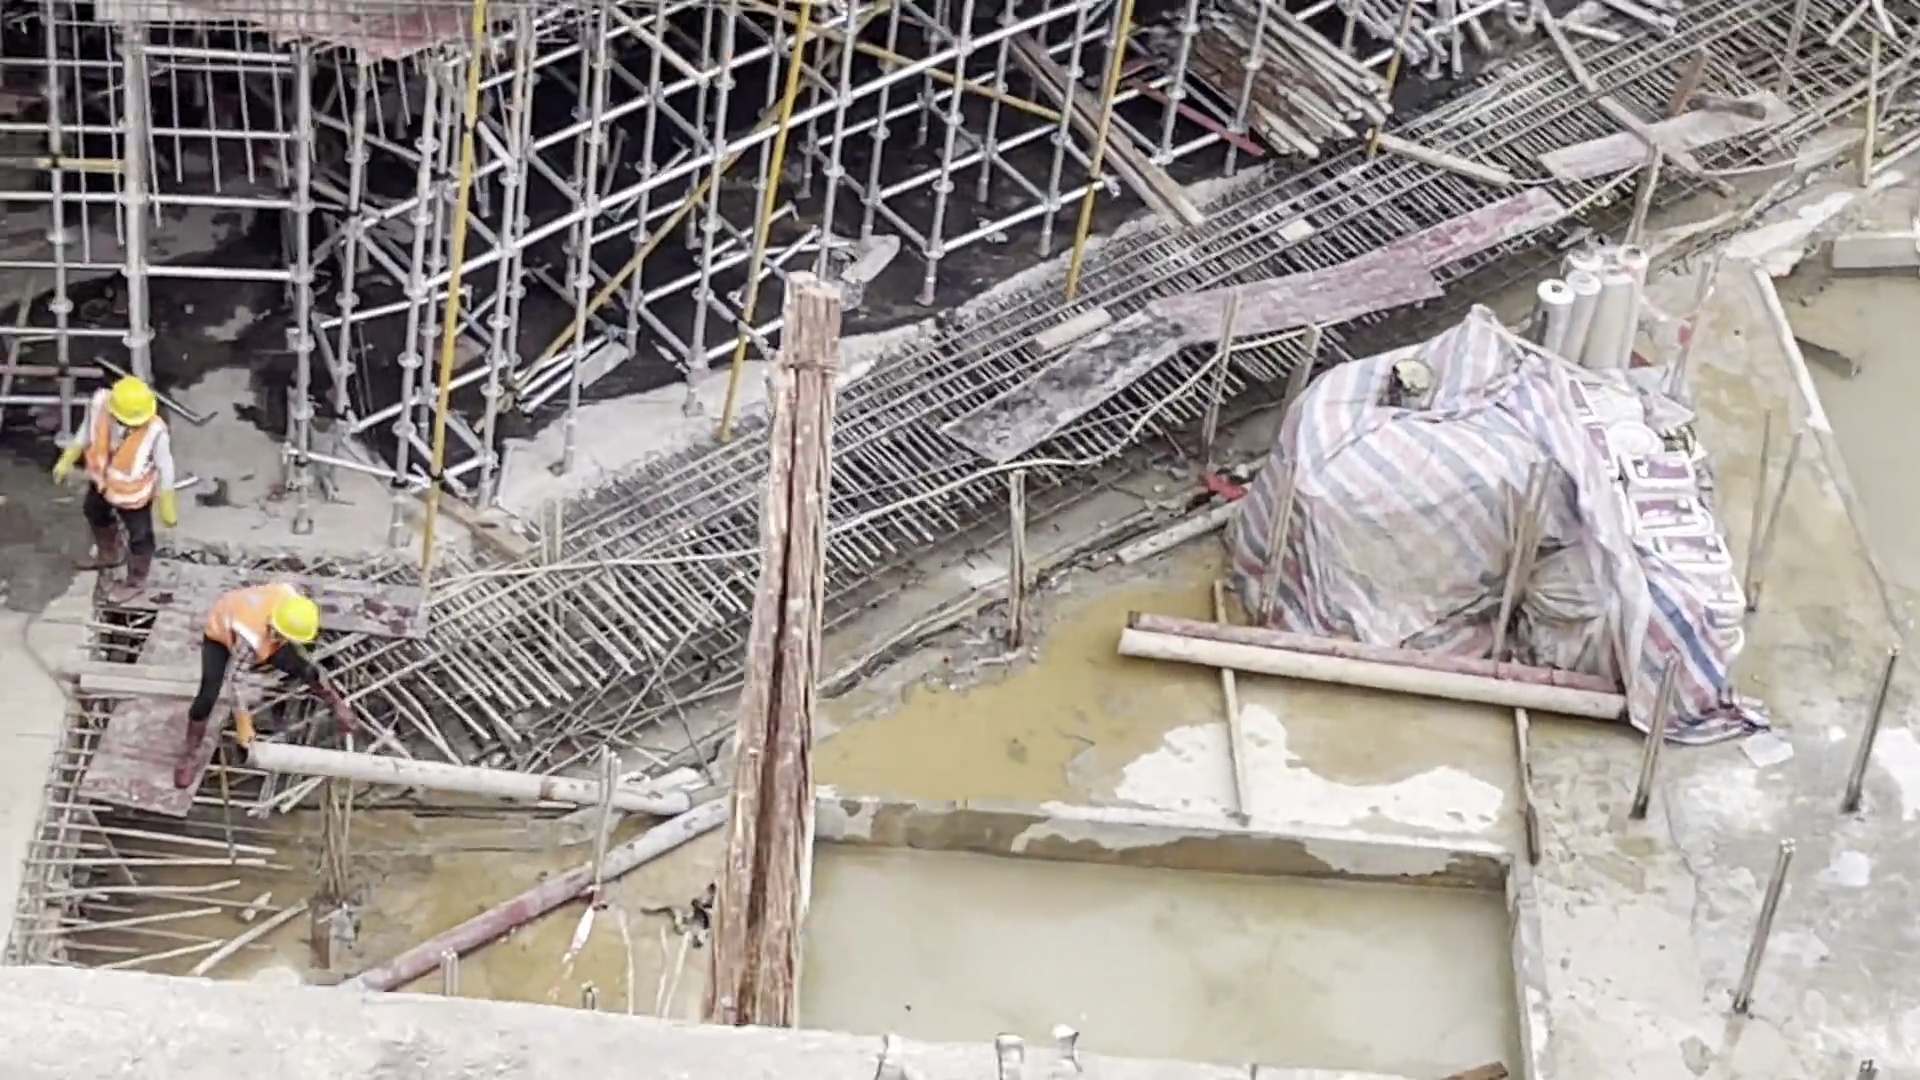helmet: (271, 593, 315, 656), (110, 376, 155, 428)
person: (170, 583, 344, 769), (52, 371, 182, 601)
vest: (82, 389, 159, 501), (200, 580, 293, 648)
